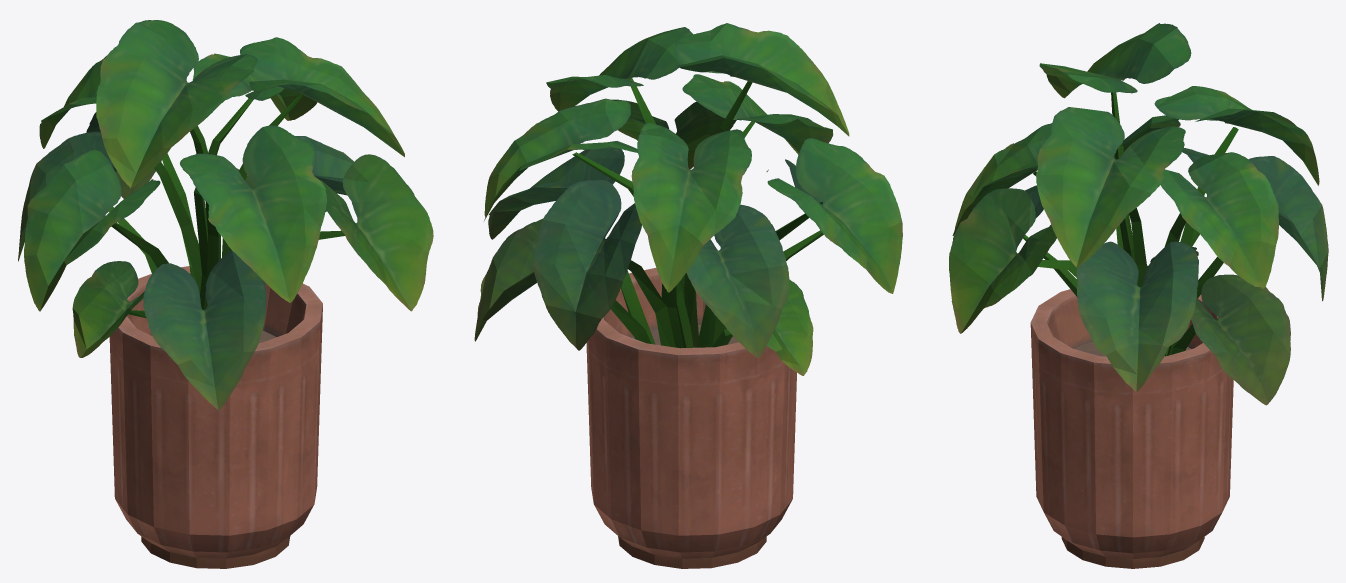
File: P_Decoration_00387.obj
The picture shows the model from 3 angles, left to right: view 1: azimuth 30°, elevation 25°; view 2: azimuth 150°, elevation 25°; view 3: azimuth 270°, elevation 25°; orthographic projection. The views are drawn at different scales.
Size of the model in its own units: 1.27 by 1.58 by 1.15.
Materials: 2 (2 with a texture image).
